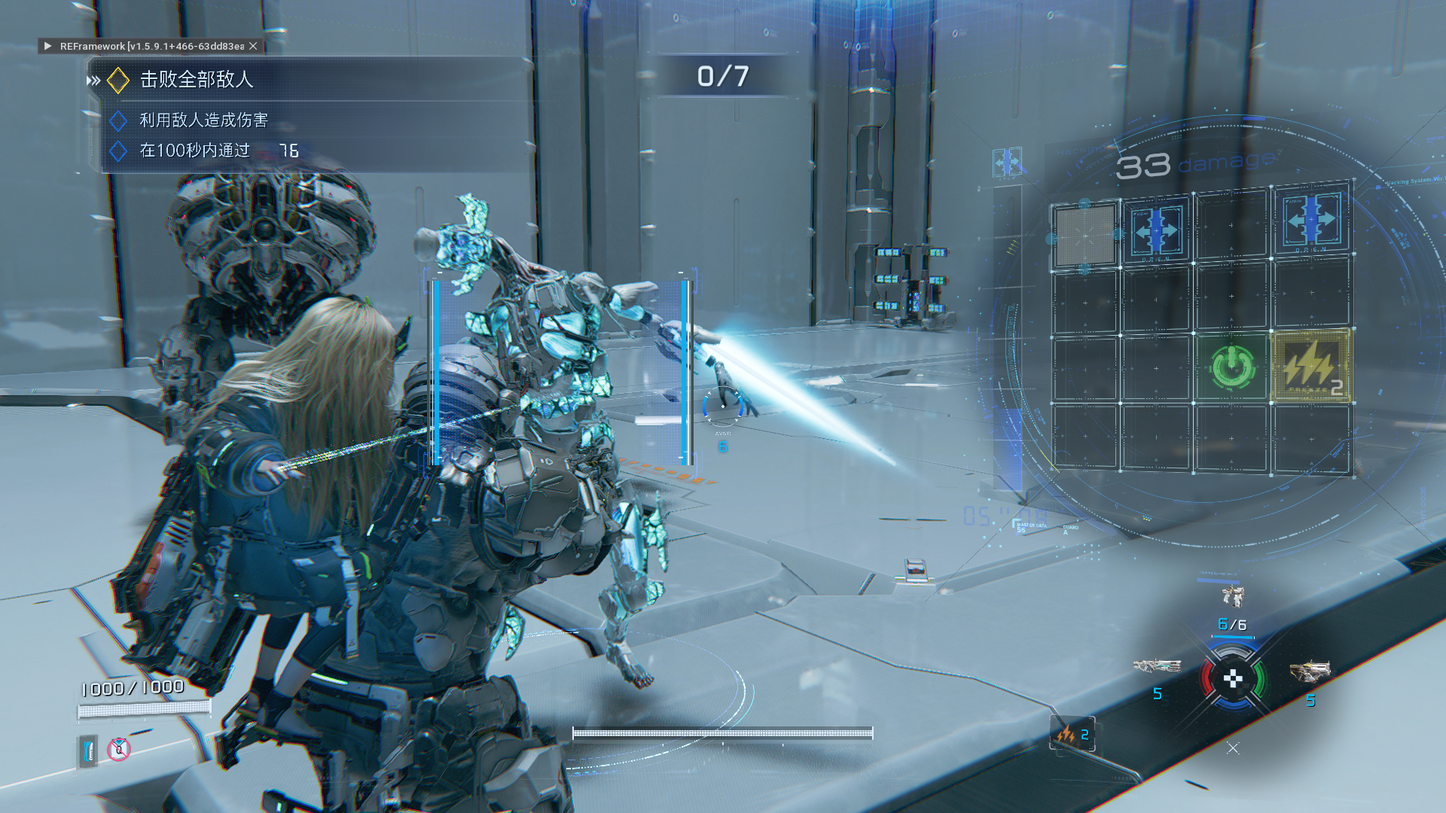puzzle_panel: (1047, 177, 1356, 482)
